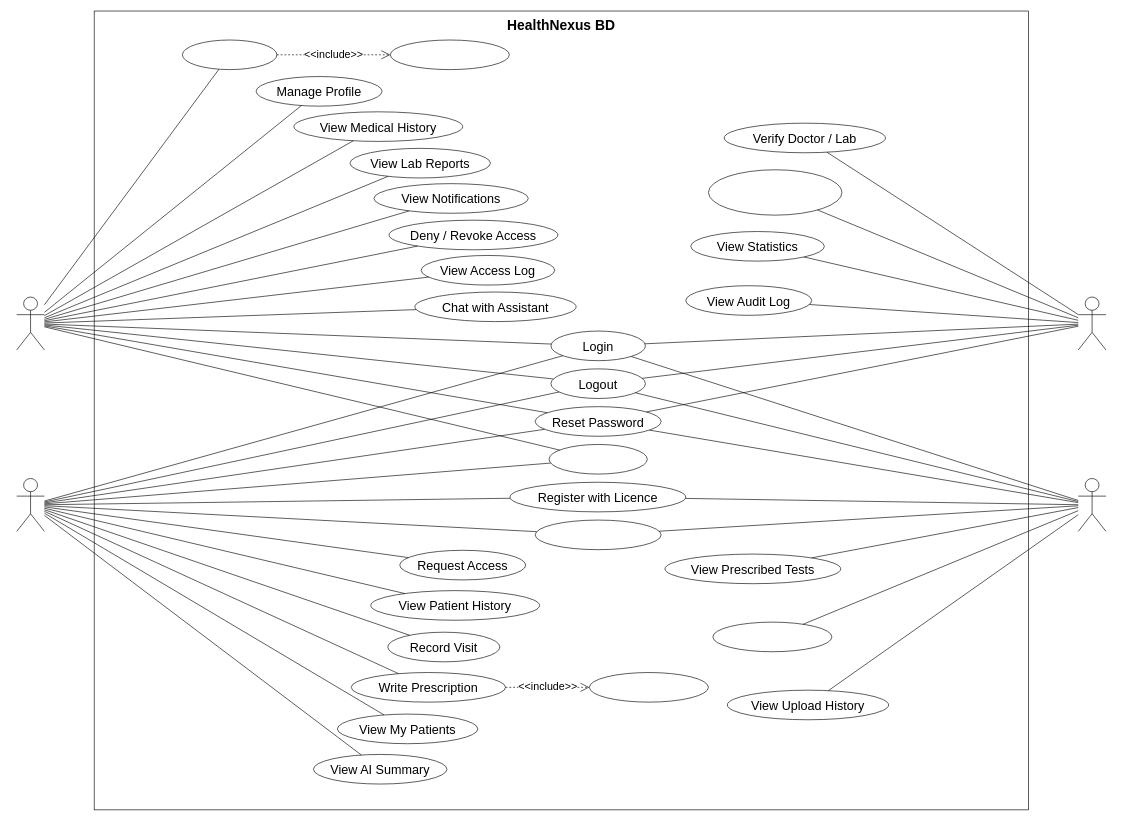
This 1121x821 diagram has some shape labels left out. The centre of each missing label's shape, as x and y in pixels:
Admin: (1092,323)
Check Allergy: (648,687)
Doctor: (30,504)
Generate UHID: (449,54)
Lab: (1092,504)
Patient: (30,323)
Register: (229,54)
Search Patient: (598,534)
Suspend / Reactivate User: (775,192)
Upload Report: (772,636)
Verify OTP: (597,459)
